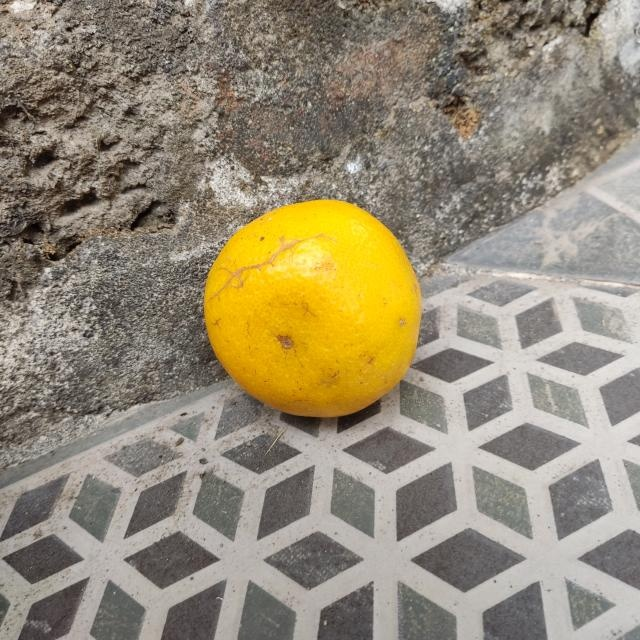agrume: (200, 198, 424, 419)
